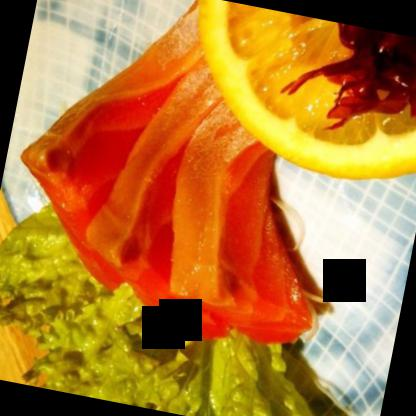salmon: (6, 0, 220, 288), (62, 53, 262, 340), (155, 90, 348, 344)
